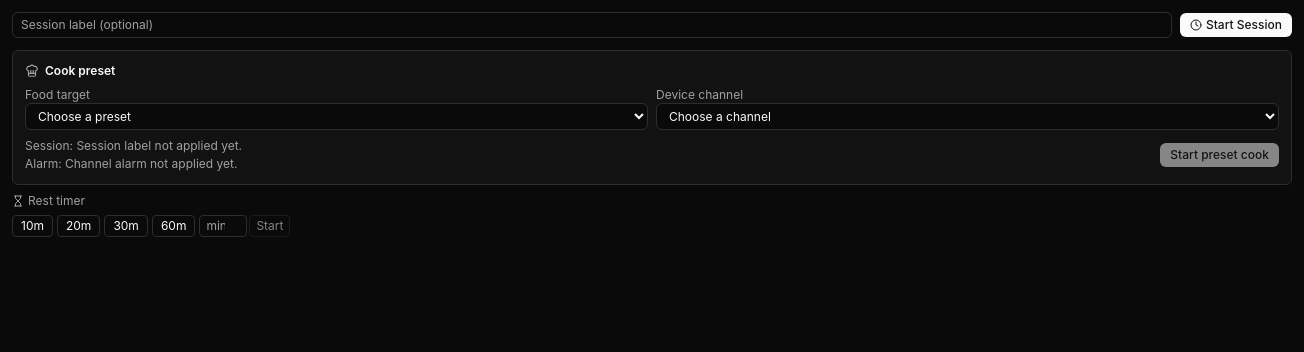
SessionControls › inactive state › cook presets › assigns a preset to a channel and previews exact alarm changes with sanitized labels
Step 1. Select "Pork - Pulled Pork (Tender) - 203°F" in the dropdown named "Cook preset" → (336, 116), box [25, 103, 648, 130]
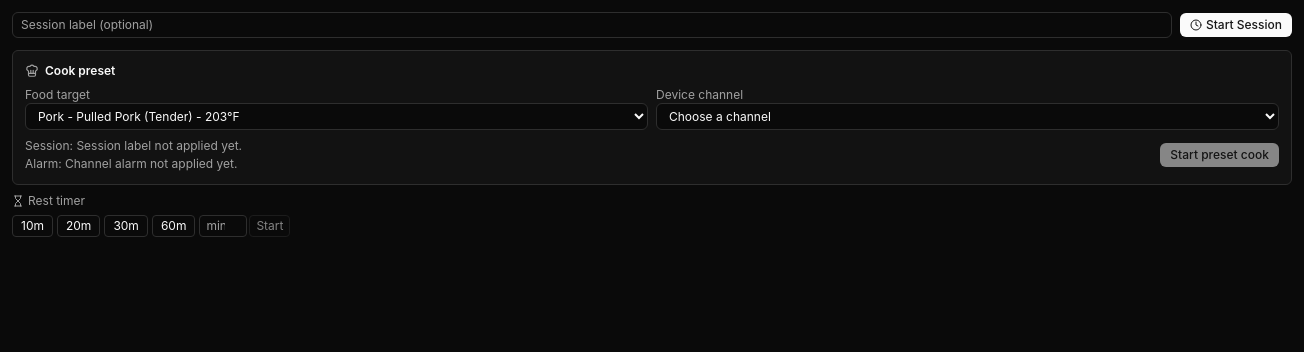
Step 2. Select "Probe scriptalert(1)/script (°F)" in the dropdown named "Preset channel" → (968, 116), box [656, 103, 1279, 130]
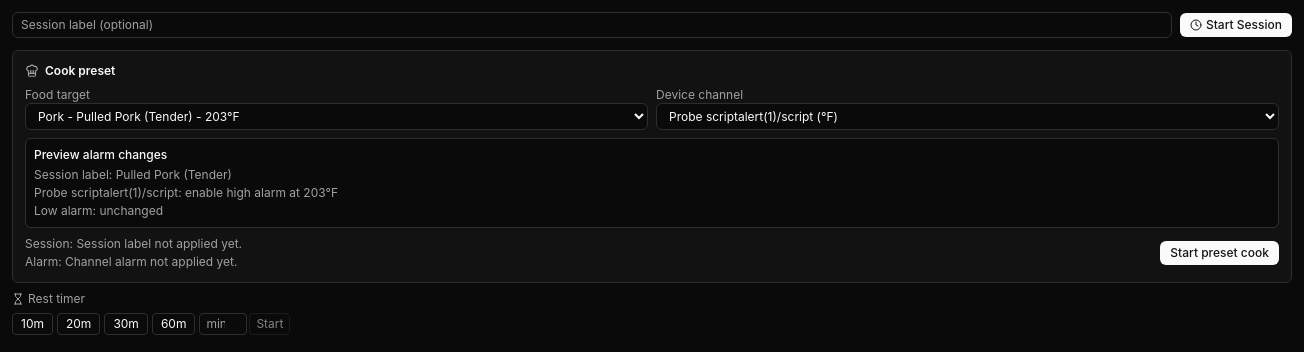
expect the text "Preview alarm changes" is shown: met, box [34, 147, 167, 162]
expect the list item "Session label: Pulled Pork (Tender)" is shown: met, box [34, 167, 232, 182]
expect the list item "Probe scriptalert(1)/script: enable high alarm at 203°F" is shown: met, box [34, 185, 338, 200]
